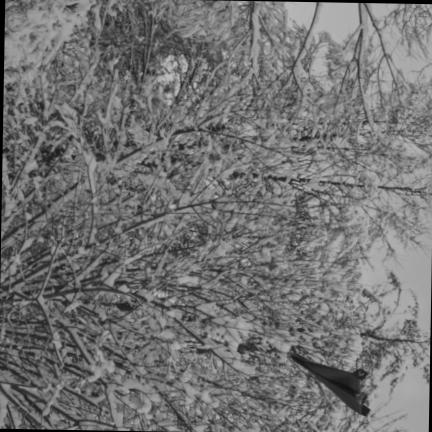Shahed: (290, 354, 367, 416)
